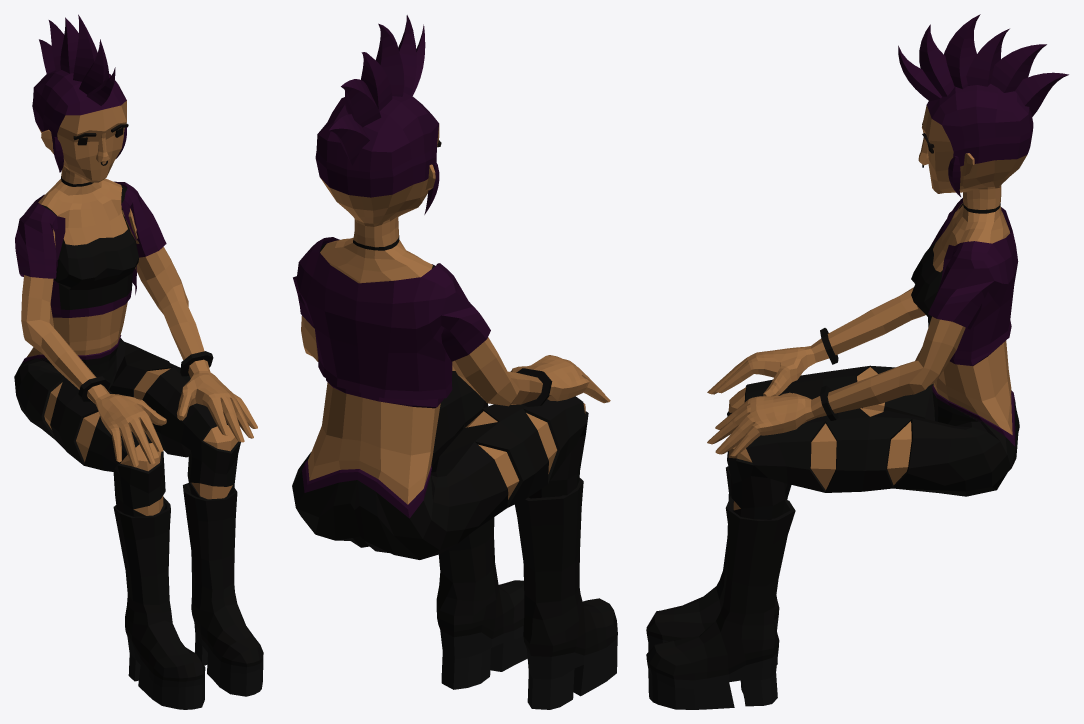
Rendered from w_punk.obj.
3 views of the same model, side by side, from view 1: azimuth 30°, elevation 25°; view 2: azimuth 150°, elevation 25°; view 3: azimuth 270°, elevation 25° (orthographic). The views are drawn at different scales.
Visible parts, largest first — view 1: Punk_Body, Punk_Feet, Punk_Legs, Punk_Head; view 2: Punk_Body, Punk_Feet, Punk_Legs, Punk_Head; view 3: Punk_Body, Punk_Legs, Punk_Feet, Punk_Head.
Part boxes in pixels (bbox=[...]): Punk_Body: bbox=[15, 178, 257, 466]; Punk_Feet: bbox=[113, 483, 263, 709]; Punk_Legs: bbox=[14, 338, 240, 516]; Punk_Head: bbox=[32, 14, 128, 186]; Punk_Body: bbox=[293, 237, 610, 518]; Punk_Feet: bbox=[436, 478, 617, 709]; Punk_Legs: bbox=[292, 371, 588, 559]; Punk_Head: bbox=[315, 15, 441, 250]; Punk_Body: bbox=[707, 198, 1018, 456]; Punk_Legs: bbox=[727, 365, 1019, 519]; Punk_Feet: bbox=[646, 466, 795, 709]; Punk_Head: bbox=[898, 14, 1068, 213].
Bounding box in the file's own units: 0.4298 × 1.47 × 0.845.
